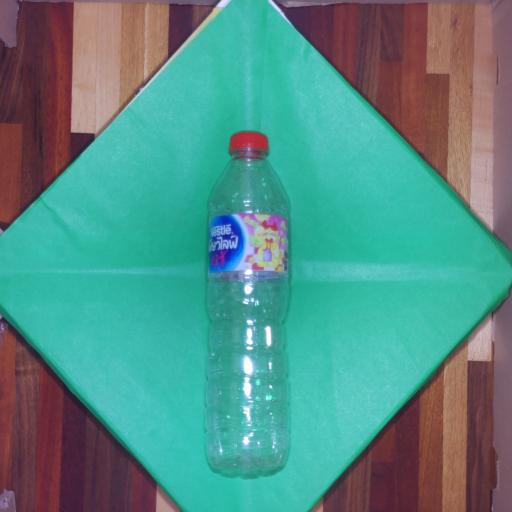bottle: (202, 118, 290, 480)
